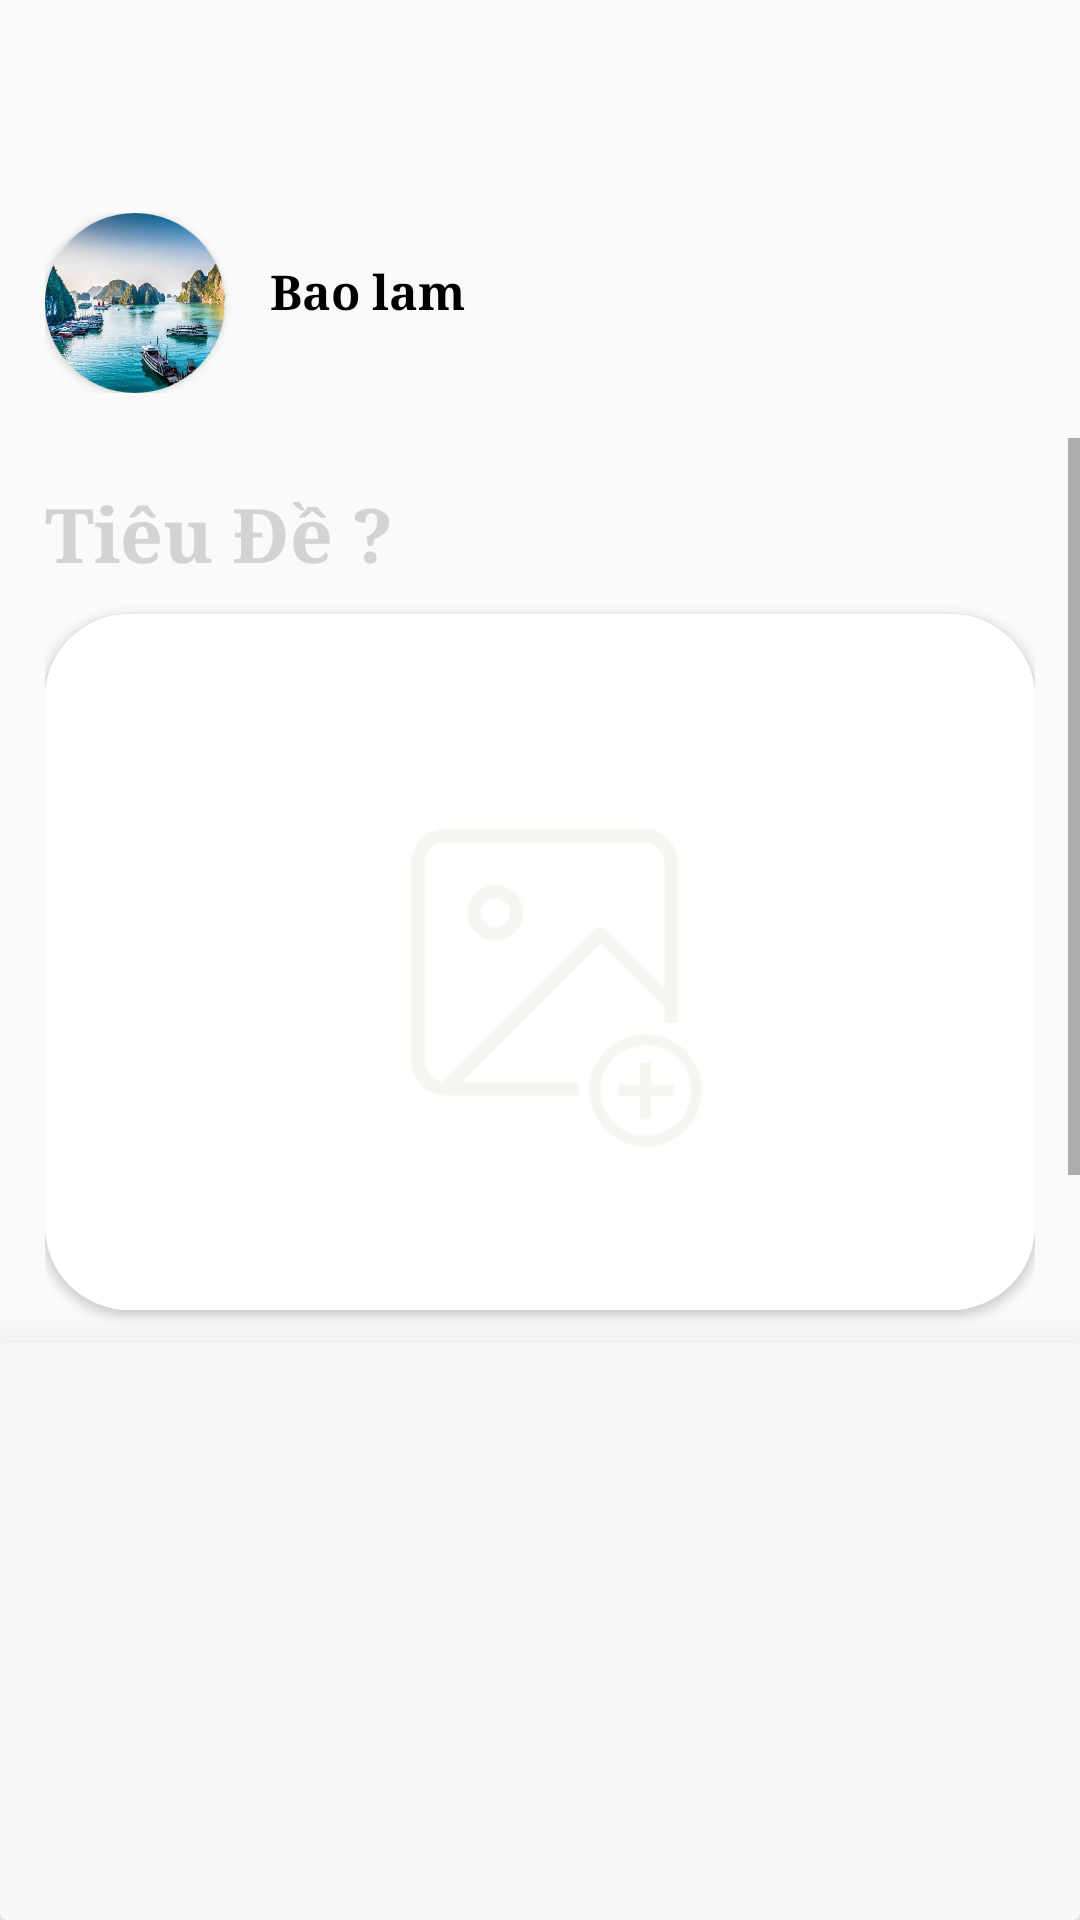

Icons on this 1080*1920 Android screen, each with the point to tap as point (x, y):
halongbay: point (135, 303)
